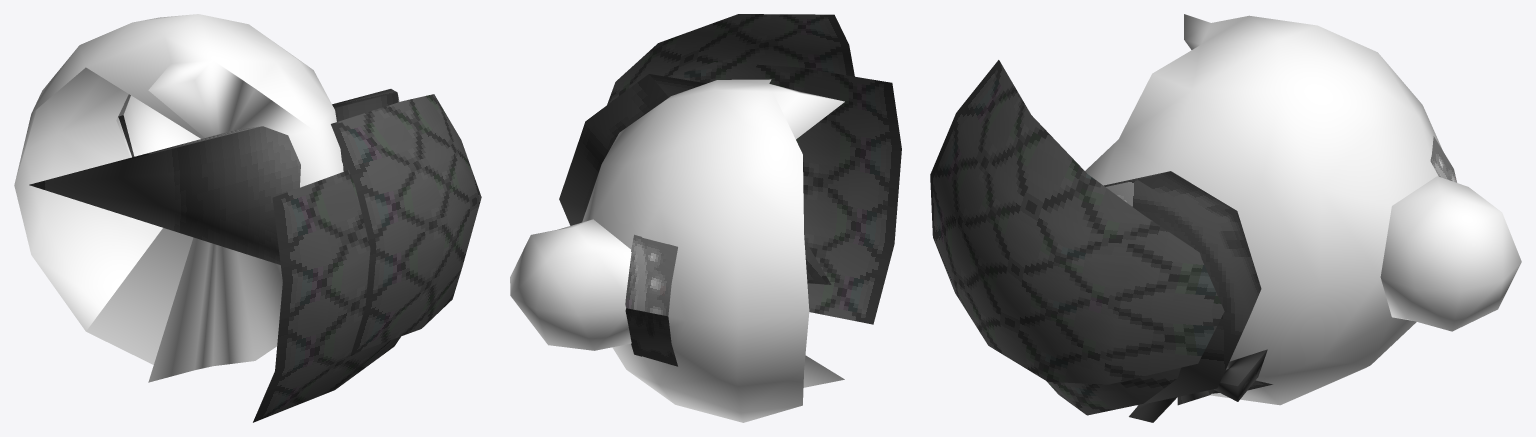
File: hlmt_viel.dae
3 views of the same model, side by side, from view 1: azimuth 30°, elevation 25°; view 2: azimuth 150°, elevation 25°; view 3: azimuth 270°, elevation 25° (orthographic). The views are drawn at different scales.
Parts seen in each view (by area): view 1: hlmt_viel; view 2: hlmt_viel; view 3: hlmt_viel.
Part boxes in pixels (x1=…): hlmt_viel: x1=14, y1=14, x2=481, y2=422; hlmt_viel: x1=510, y1=14, x2=901, y2=422; hlmt_viel: x1=930, y1=14, x2=1521, y2=422.
Size of the model in its own units: 24.54 by 23.45 by 34.64.
3 materials, 3 textured.
